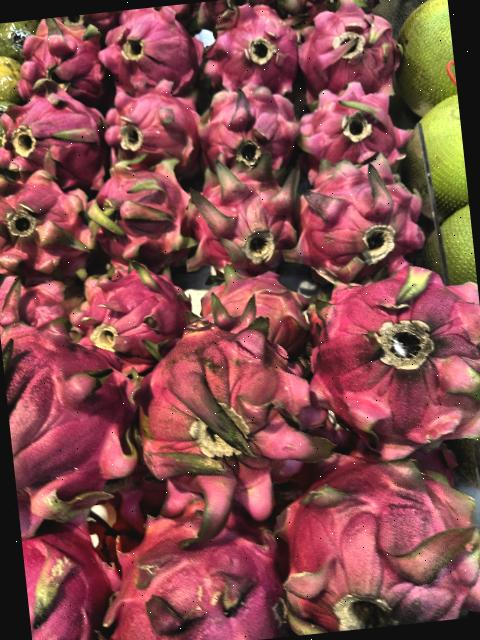buah-naga-belum-matang: (122, 308, 318, 505), (82, 158, 204, 278), (187, 260, 323, 358), (182, 160, 296, 272), (186, 76, 304, 177)
buah-naga-matang: (269, 440, 480, 636), (290, 259, 480, 459), (0, 308, 148, 537), (97, 496, 300, 640), (283, 149, 436, 285), (293, 77, 423, 184), (20, 511, 122, 640), (287, 0, 408, 102), (193, 0, 304, 109), (66, 261, 186, 361), (0, 165, 100, 281), (0, 88, 107, 192), (95, 8, 210, 103), (93, 84, 198, 170), (14, 22, 107, 104)
